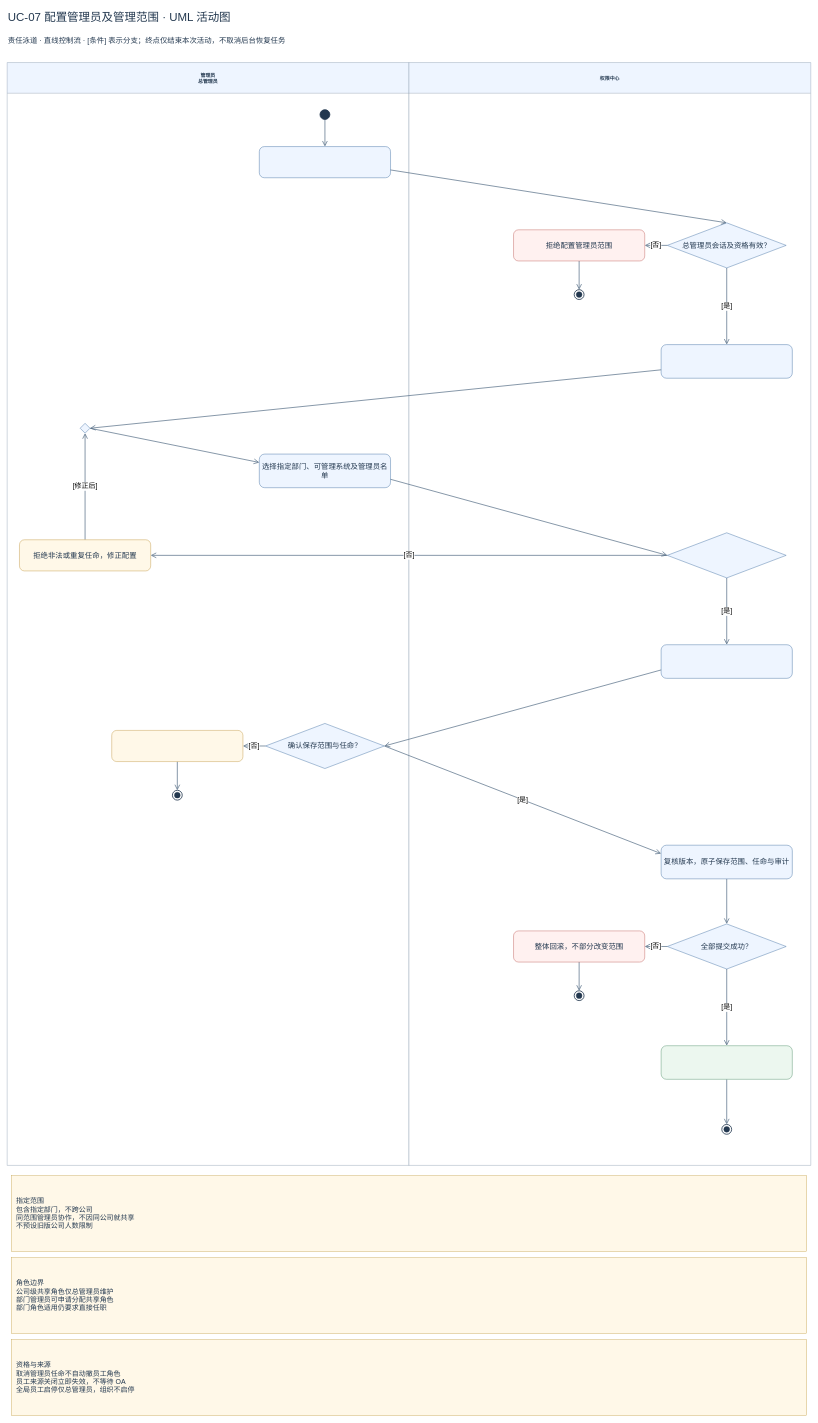
This 818x1423 diagram has some shape labels left out. Each missing label, with the centre of its shape:
"取消未提交配置，原范围保留" belongs at (x=177, y=746).
"打开权限管理员与范围配置" belongs at (x=325, y=162).
"范围直接生效，后续请求按最新资格检查" belongs at (x=726, y=1062).
"读取公司、管理部门、系统及任命版本" belongs at (x=726, y=361).
"部门归属、任职、账号与任命去重合法？" belongs at (x=726, y=555).
"预览部门/系统变更及待执行申请影响" belongs at (x=726, y=661).
